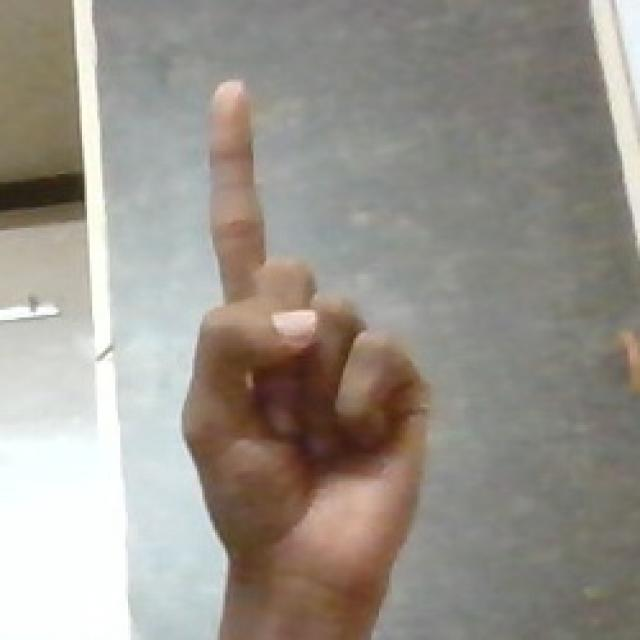Numeric-1: (195, 77, 430, 640)
